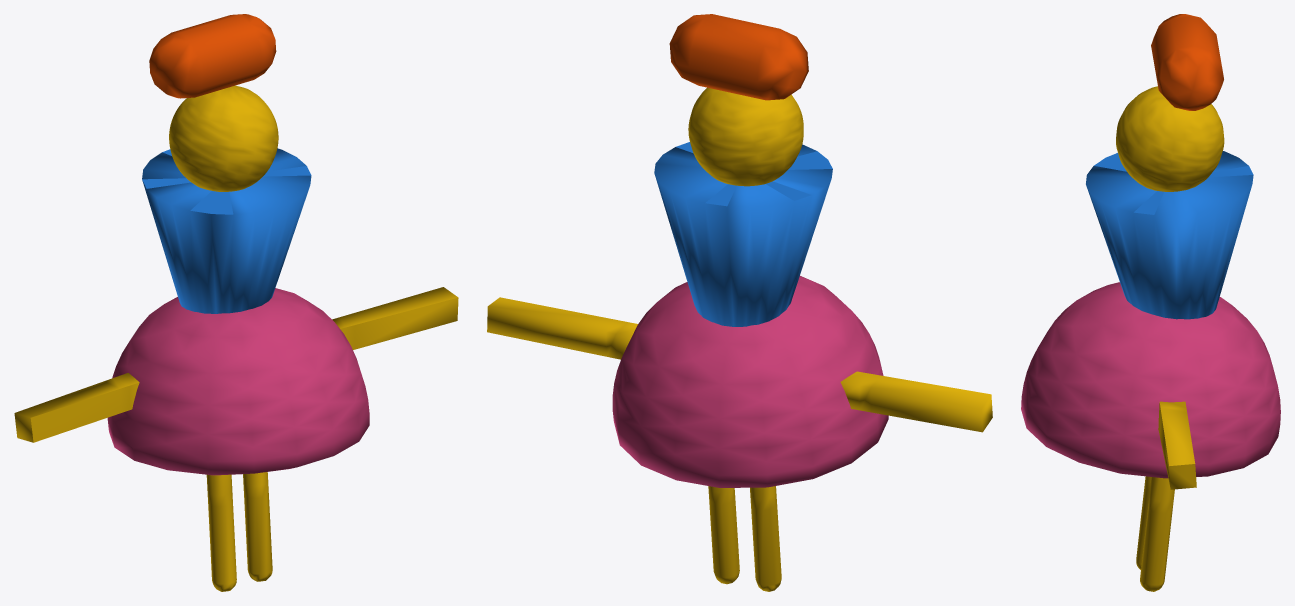
Rendered from guest5.fbx.
The picture shows the model from 3 angles, left to right: view 1: azimuth 30°, elevation 25°; view 2: azimuth 150°, elevation 25°; view 3: azimuth 270°, elevation 25°; orthographic projection. The views are drawn at different scales.
Parts seen in each view (by area): view 1: guest5; view 2: guest5; view 3: guest5.
Boxes of the visible parts, x1,y1,x2,y2 form: guest5: (14,14,458,591); guest5: (487,14,992,591); guest5: (1021,14,1280,591).
Bounding box in the file's own units: 171 × 199 × 86.1.
